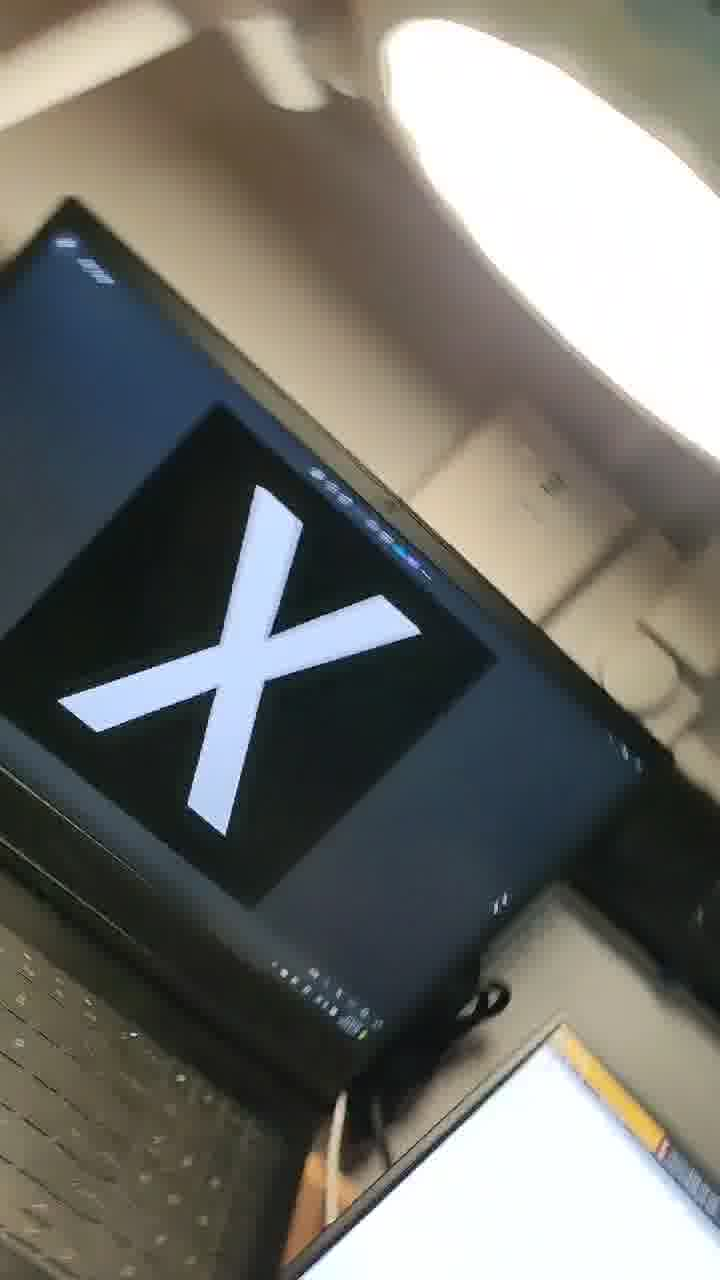X: (99, 483, 441, 913)
